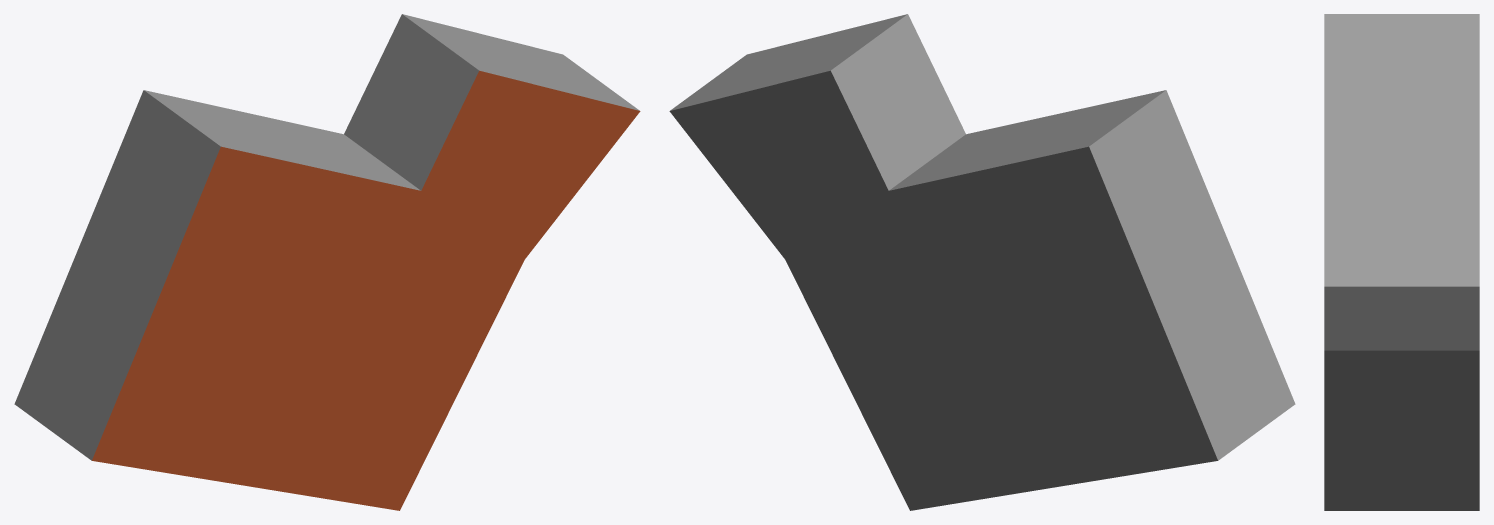
Rendered from construction_3501_assumed_A_Casa_h6m.obj.
3 views of the same model, side by side, from view 1: azimuth 30°, elevation 25°; view 2: azimuth 150°, elevation 25°; view 3: azimuth 270°, elevation 25° (orthographic).
Visible parts, largest first — view 1: construction_3501_assumed_A_Casa; view 2: construction_3501_assumed_A_Casa; view 3: construction_3501_assumed_A_Casa.
Boxes of the visible parts, box(x1,y1,x2,y2) form: construction_3501_assumed_A_Casa: box(14, 14, 640, 510); construction_3501_assumed_A_Casa: box(669, 14, 1295, 510); construction_3501_assumed_A_Casa: box(1324, 14, 1479, 510).
Size of the model in its own units: 24.58 by 18.01 by 6.
